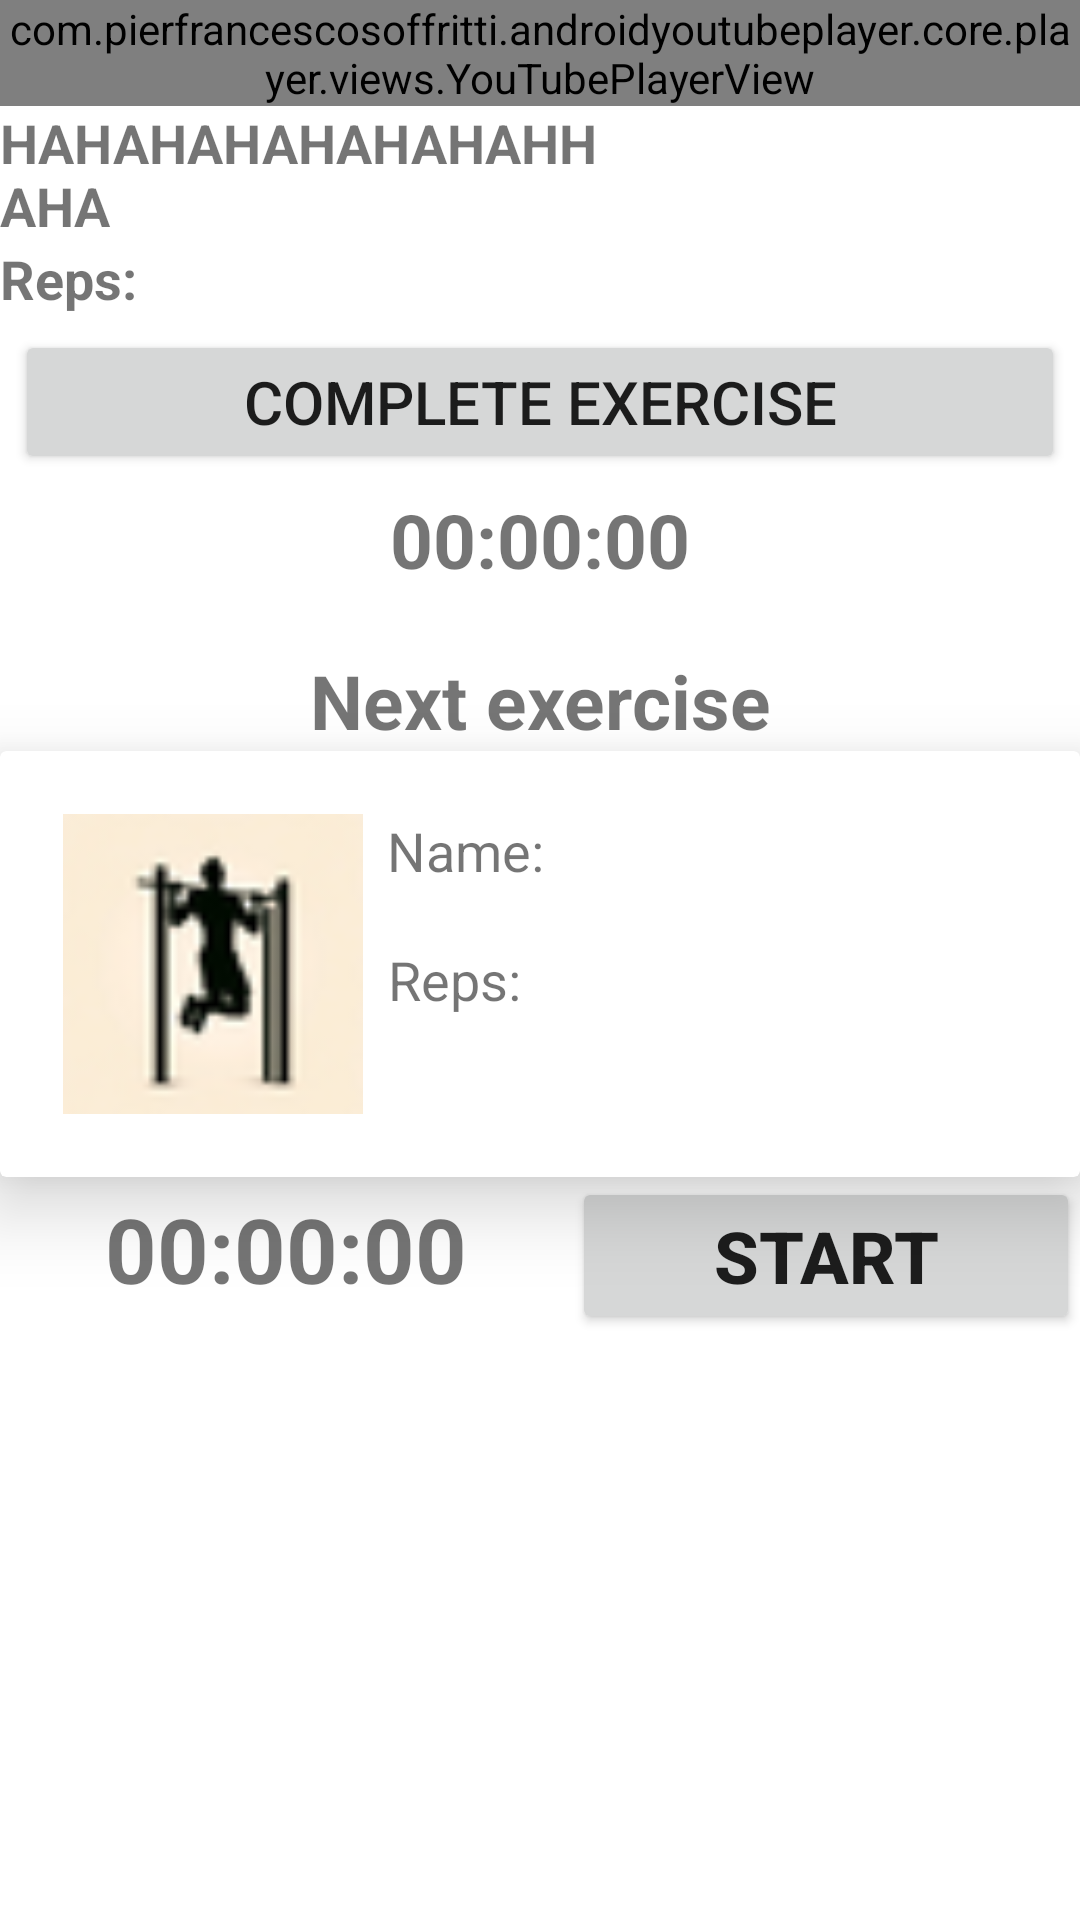

Where to tap for icons on this 1080x1920 app screen, as [x,y]:
rsz pullup: [213,964]
